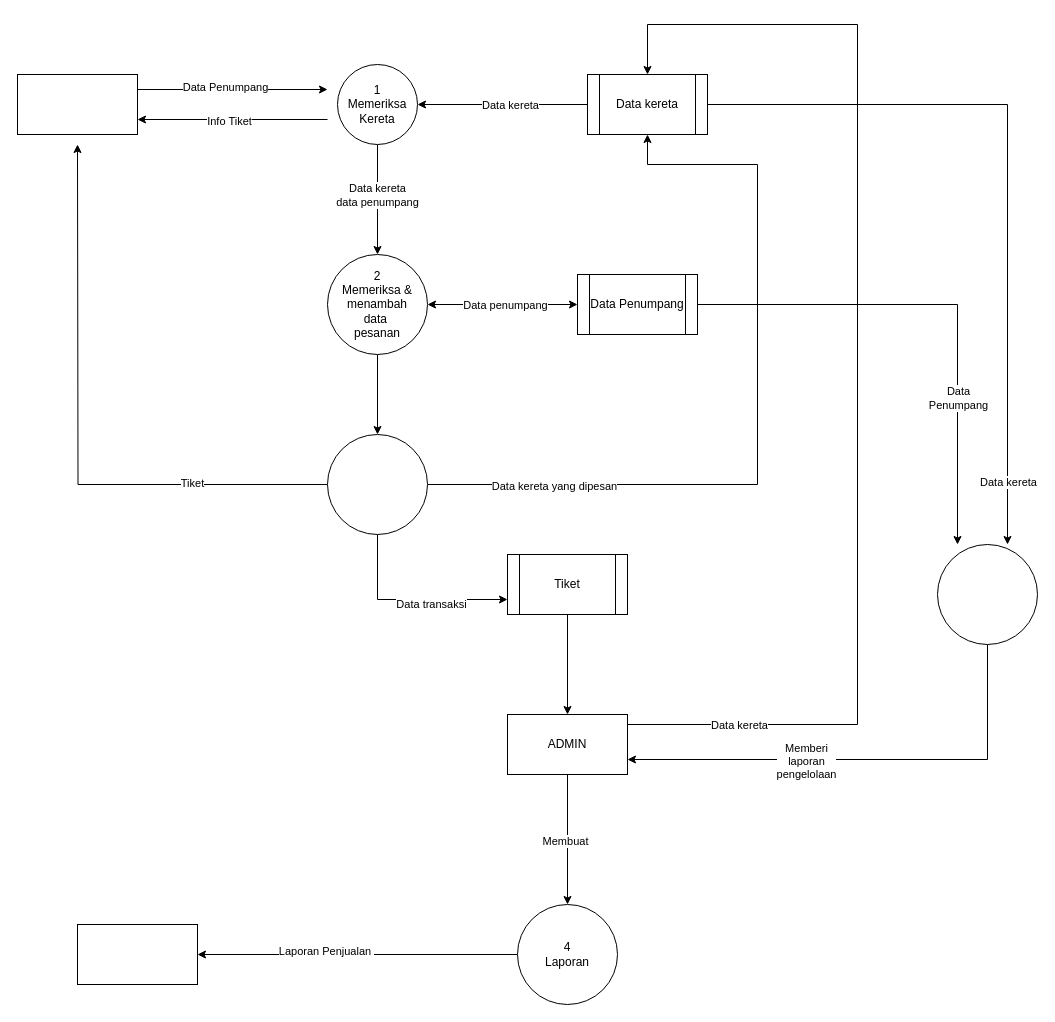
This 1055x1022 diagram has some shape labels left out. Each missing label, with the box of its shape:
3 Transaksi pemesanan tiket: (326, 434, 428, 534)
5 Pengelolaan: (936, 544, 1038, 644)
PENGGUNA: (16, 74, 138, 134)
Pimpinan PT.KAI: (76, 924, 198, 984)
